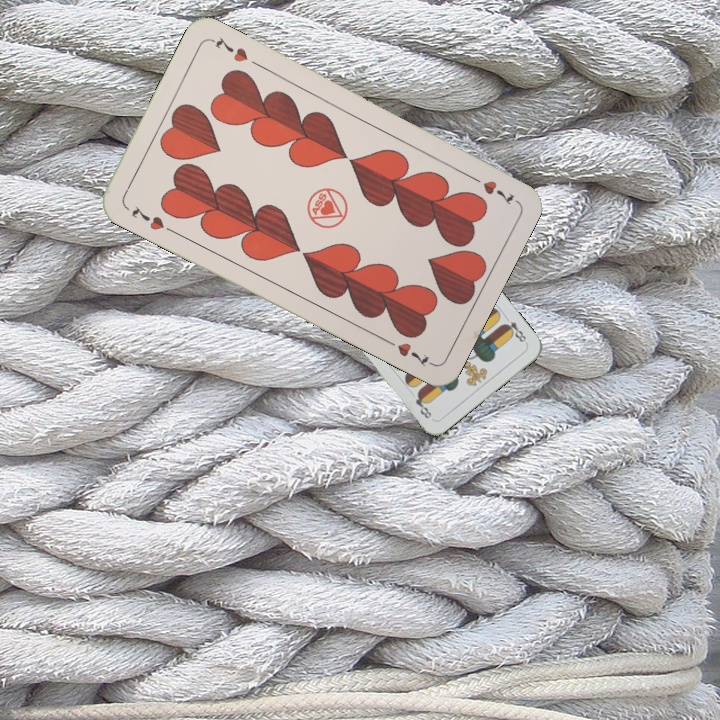E8: (499, 312, 530, 347)
H7: (464, 170, 519, 207), (127, 201, 177, 236)
